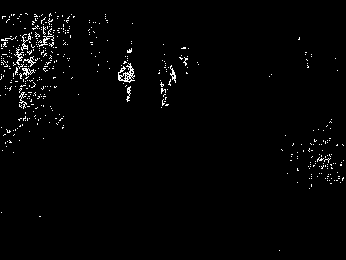person: (157, 58, 176, 109), (117, 60, 135, 102)
